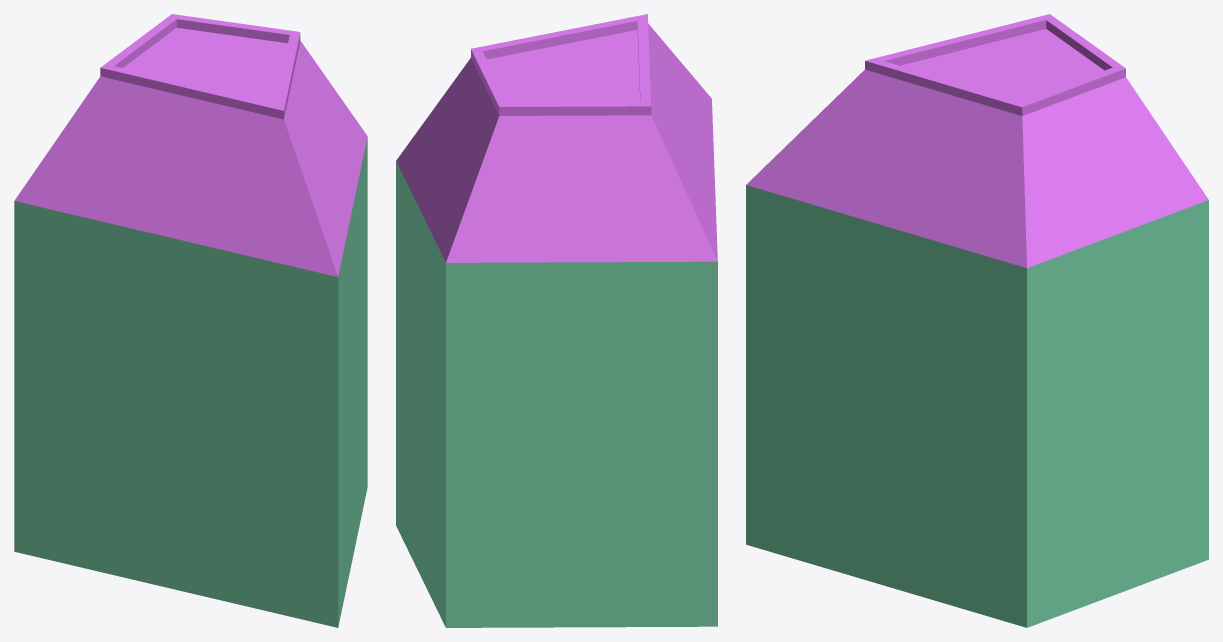
Rendered from Batiment1.fbx.
3 renders of one model, left to right at view 1: azimuth 30°, elevation 25°; view 2: azimuth 150°, elevation 25°; view 3: azimuth 270°, elevation 25°, orthographic. The views are drawn at different scales.
Visible parts, largest first — view 1: Batiment1; view 2: Batiment1; view 3: Batiment1.
Boxes of the visible parts, left/top/right/bottom form: Batiment1: left=14, top=14, right=367, bottom=627; Batiment1: left=396, top=14, right=717, bottom=627; Batiment1: left=746, top=14, right=1208, bottom=627.
Bounding box in the file's own units: 24.17 × 33.03 × 28.52.
